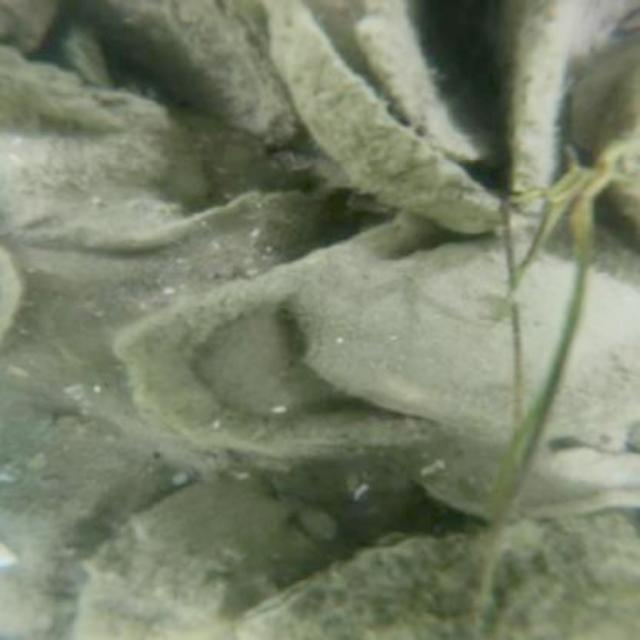Oyster-Closed: (111, 208, 481, 453), (288, 235, 633, 442), (237, 507, 635, 638), (48, 476, 316, 638), (3, 56, 197, 240), (78, 1, 295, 138), (353, 2, 520, 167), (547, 440, 638, 488)
Oyster-Open: (269, 0, 581, 233)
